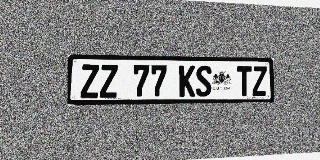7: (132, 65, 149, 98), (150, 65, 167, 97)
K: (179, 65, 195, 97)
S: (196, 66, 212, 97)
T: (237, 66, 252, 96)
Z: (81, 64, 99, 98), (100, 64, 118, 98), (252, 66, 267, 96)
